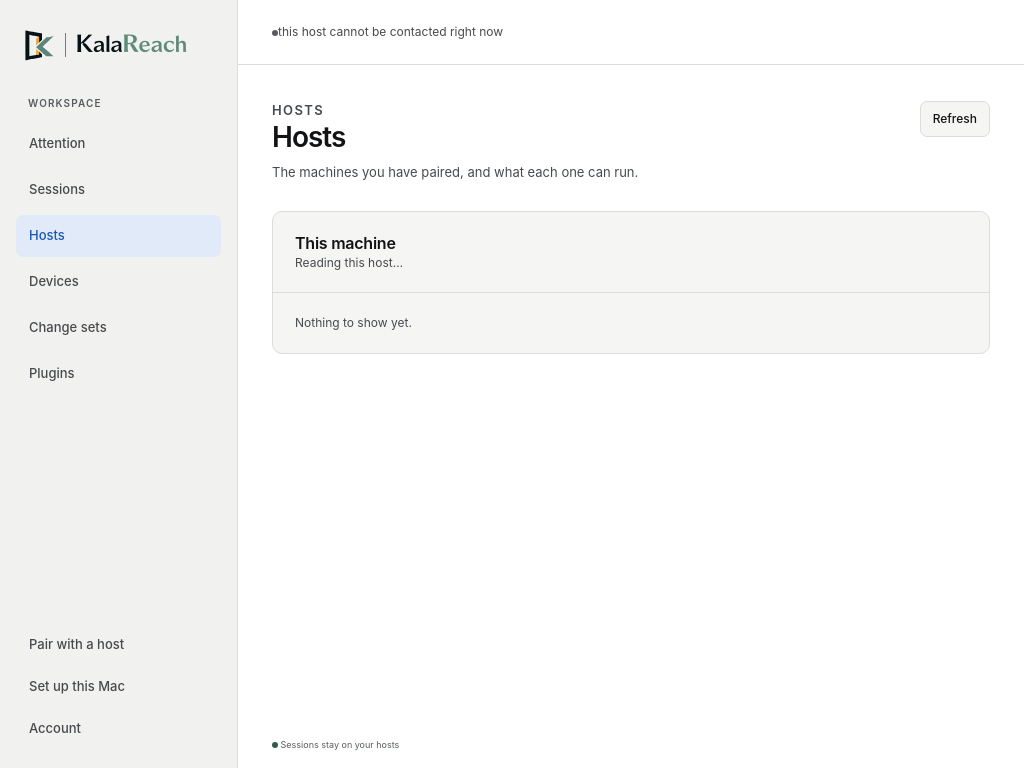
Test: the hosts show their newest read › keeps the newer answer when two reads answer in reverse order
The width and height of the screenshot is (1024, 768).
Click the button "Refresh". click: click(955, 119)
box: [920,101,990,137]
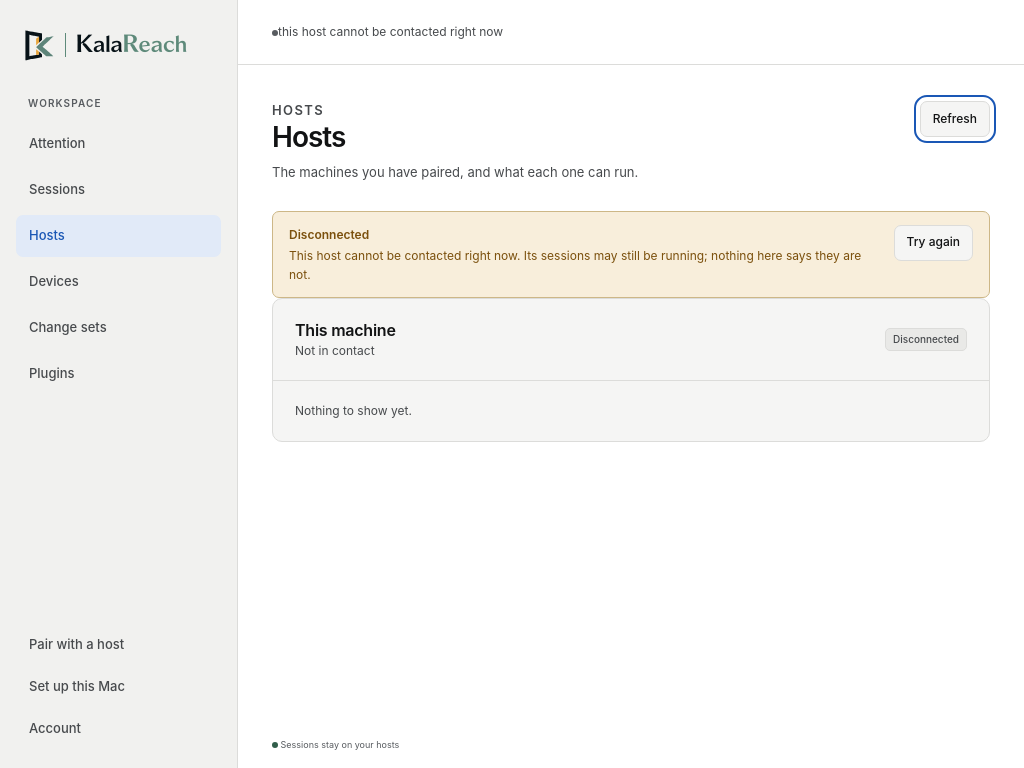
Result: the 1st text "Disconnected" is shown at [289,227,369,242]
